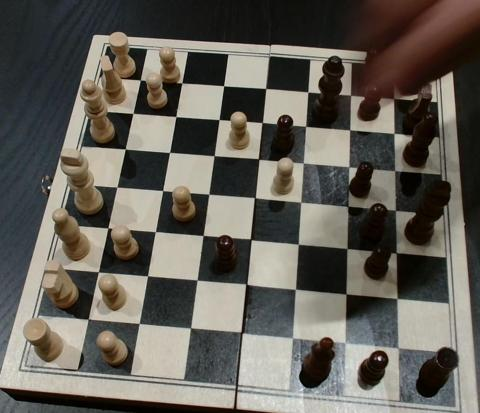xcorner: (258, 81, 274, 97), (215, 78, 231, 94), (173, 75, 189, 91), (131, 72, 147, 88), (343, 122, 359, 138), (167, 109, 183, 125), (389, 163, 405, 179), (247, 192, 263, 208), (200, 188, 216, 204), (341, 242, 357, 258), (243, 234, 259, 250), (194, 230, 210, 246), (146, 226, 162, 242), (98, 222, 114, 238), (340, 288, 356, 304), (289, 283, 305, 299), (238, 279, 254, 295), (138, 270, 154, 286), (89, 266, 105, 282), (339, 337, 355, 353), (286, 332, 302, 348), (130, 318, 146, 334), (387, 91, 403, 106), (344, 88, 360, 103), (301, 84, 316, 100), (388, 126, 404, 141), (299, 119, 314, 135), (255, 116, 270, 132), (124, 106, 139, 122), (297, 156, 312, 172), (251, 153, 267, 168), (206, 149, 221, 165), (160, 146, 176, 161), (116, 142, 131, 158), (390, 203, 405, 219), (294, 196, 310, 211), (154, 184, 169, 200), (107, 181, 123, 196), (391, 246, 406, 262), (292, 238, 307, 254), (392, 292, 407, 308), (188, 275, 204, 290), (393, 342, 408, 358), (234, 327, 249, 343), (79, 313, 94, 329), (211, 113, 226, 128), (343, 160, 358, 175), (342, 200, 357, 215), (182, 323, 197, 338)
